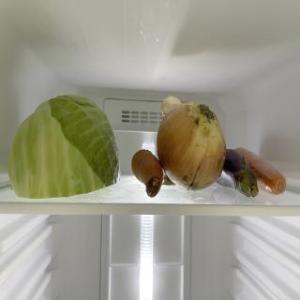cabbage: (8, 93, 124, 201)
carrot: (236, 145, 288, 195), (131, 150, 169, 200)
eggplant: (222, 144, 262, 195)
onion: (157, 103, 227, 189)
